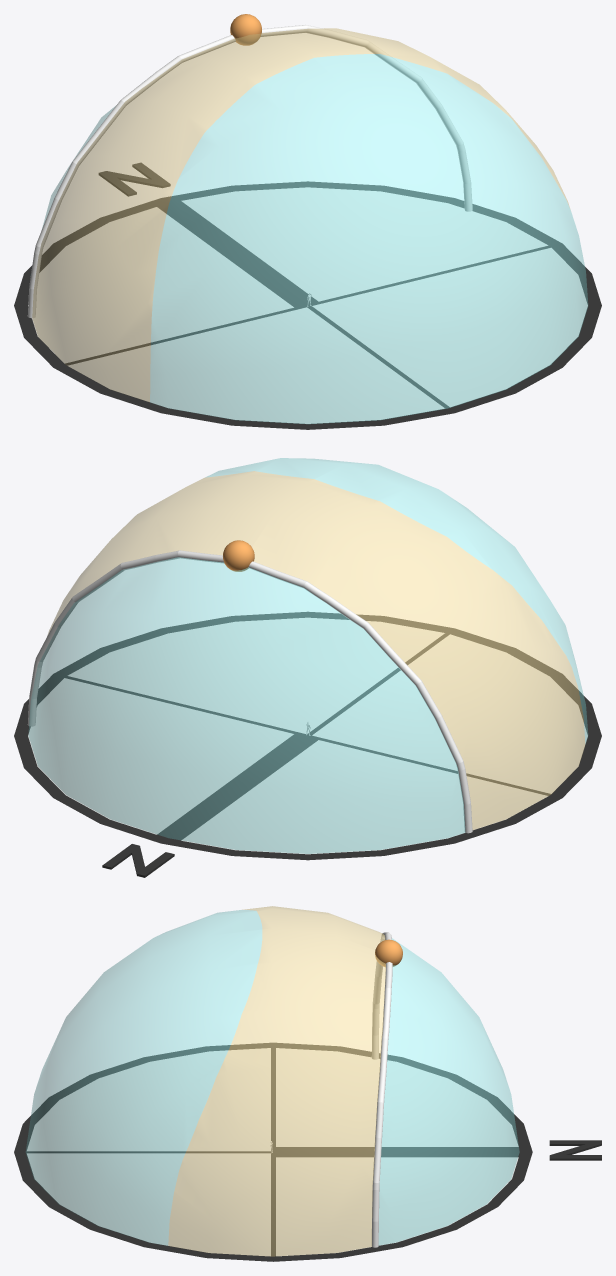
File: solinverno.glb
3 views of the same model, one above another, from view 1: azimuth 30°, elevation 25°; view 2: azimuth 150°, elevation 25°; view 3: azimuth 270°, elevation 25° (orthographic). The views are drawn at different scales.
Parts seen in each view (by area): view 1: object 1, object 6, object 7, N, object 4; view 2: object 1, object 6, object 7, N, object 4; view 3: object 1, object 6, object 7, N, object 4.
Part boxes in pixels (<box>): object 1: <box>30,28,588,424</box>; object 6: <box>14,181,601,429</box>; object 7: <box>27,25,472,318</box>; N: <box>98,162,170,196</box>; object 4: <box>230,14,261,45</box>; object 1: <box>28,458,588,853</box>; object 6: <box>14,611,601,860</box>; object 7: <box>27,550,472,833</box>; N: <box>102,844,174,877</box>; object 4: <box>223,540,254,571</box>; object 1: <box>25,906,519,1256</box>; object 6: <box>14,1042,532,1261</box>; object 7: <box>371,932,392,1247</box>; N: <box>549,1140,601,1160</box>; object 4: <box>375,939,402,966</box>.
Size of the model in its own units: 1.47 by 0.7006 by 1.67.
